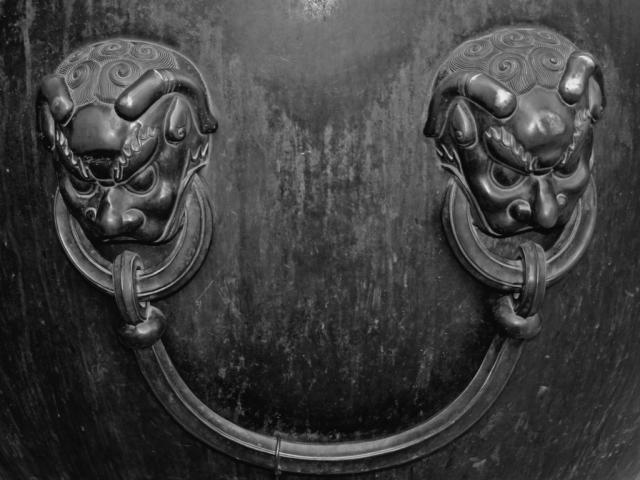Door-handle: (28, 27, 612, 476)
